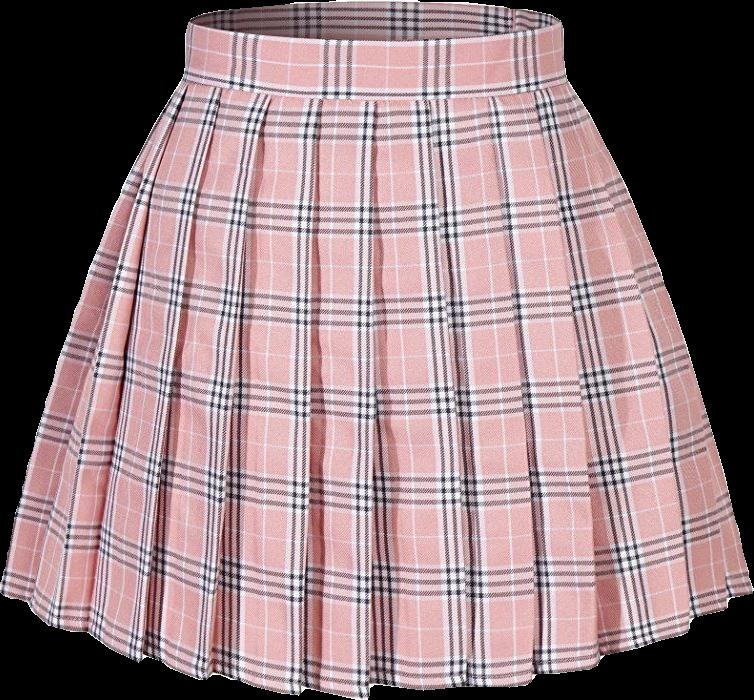Hemline: (0, 586, 753, 699)
Waistline: (186, 13, 563, 48), (181, 71, 573, 98)
